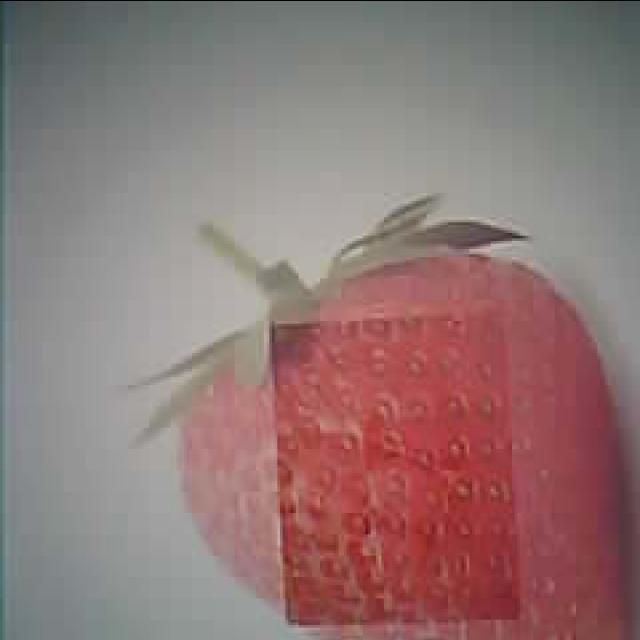strawberry: (176, 252, 640, 640)
